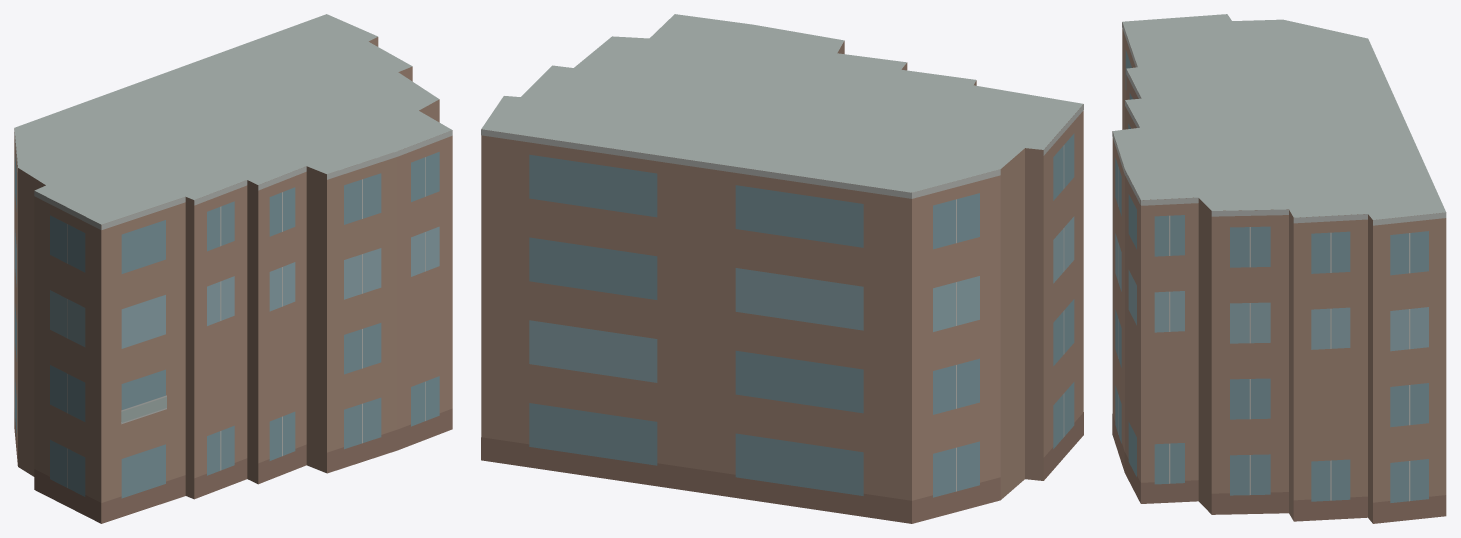
Rendered from survey-upis-33015639.glb.
3 renders of one model, left to right at view 1: azimuth 30°, elevation 25°; view 2: azimuth 150°, elevation 25°; view 3: azimuth 270°, elevation 25°, orthographic. The views are drawn at different scales.
Visible parts, largest first — view 1: survey-upis-33015639.tmp; view 2: survey-upis-33015639.tmp; view 3: survey-upis-33015639.tmp.
Part boxes in pixels (box(x1,y1,x2,y2)): survey-upis-33015639.tmp: box(14, 14, 452, 523); survey-upis-33015639.tmp: box(481, 14, 1083, 523); survey-upis-33015639.tmp: box(1112, 14, 1446, 523).
Bounding box in the file's own units: 19.22 × 13.2 × 13.15.
